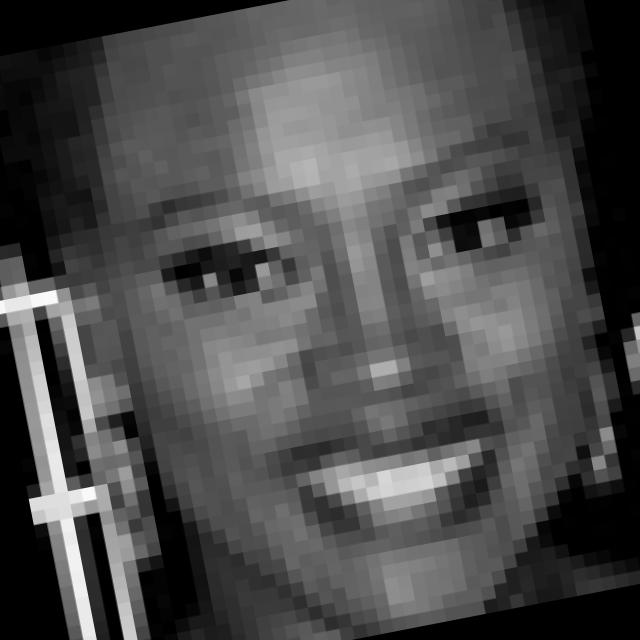happy: (131, 115, 620, 601)
